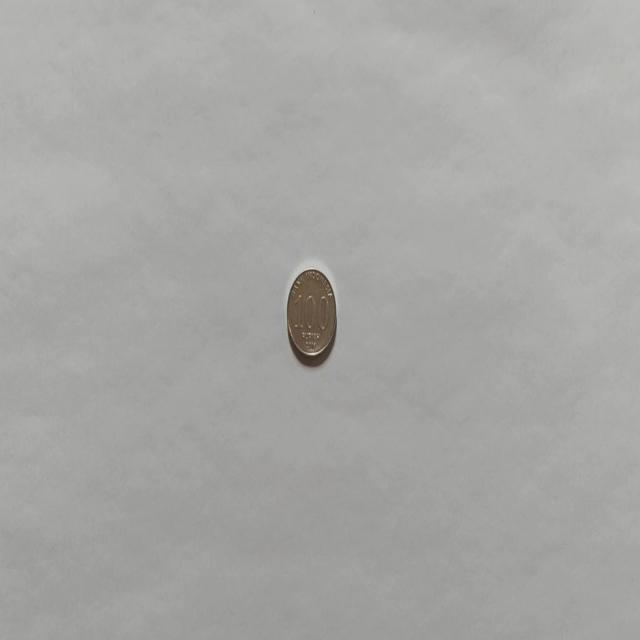seratus rupiah: (285, 266, 337, 361)
